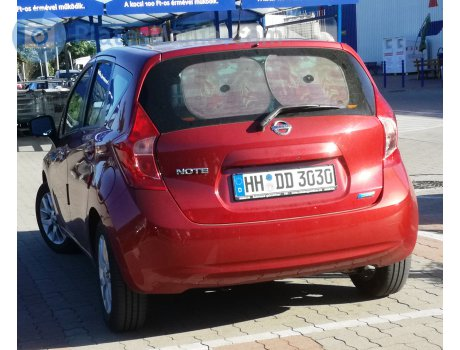License Plates: (246, 173, 334, 189)
